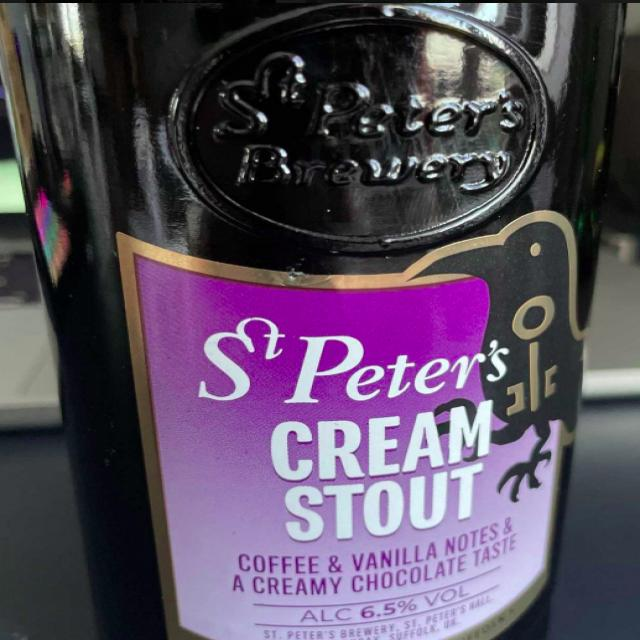St. Peters Cream Stout: (1, 0, 640, 640)
